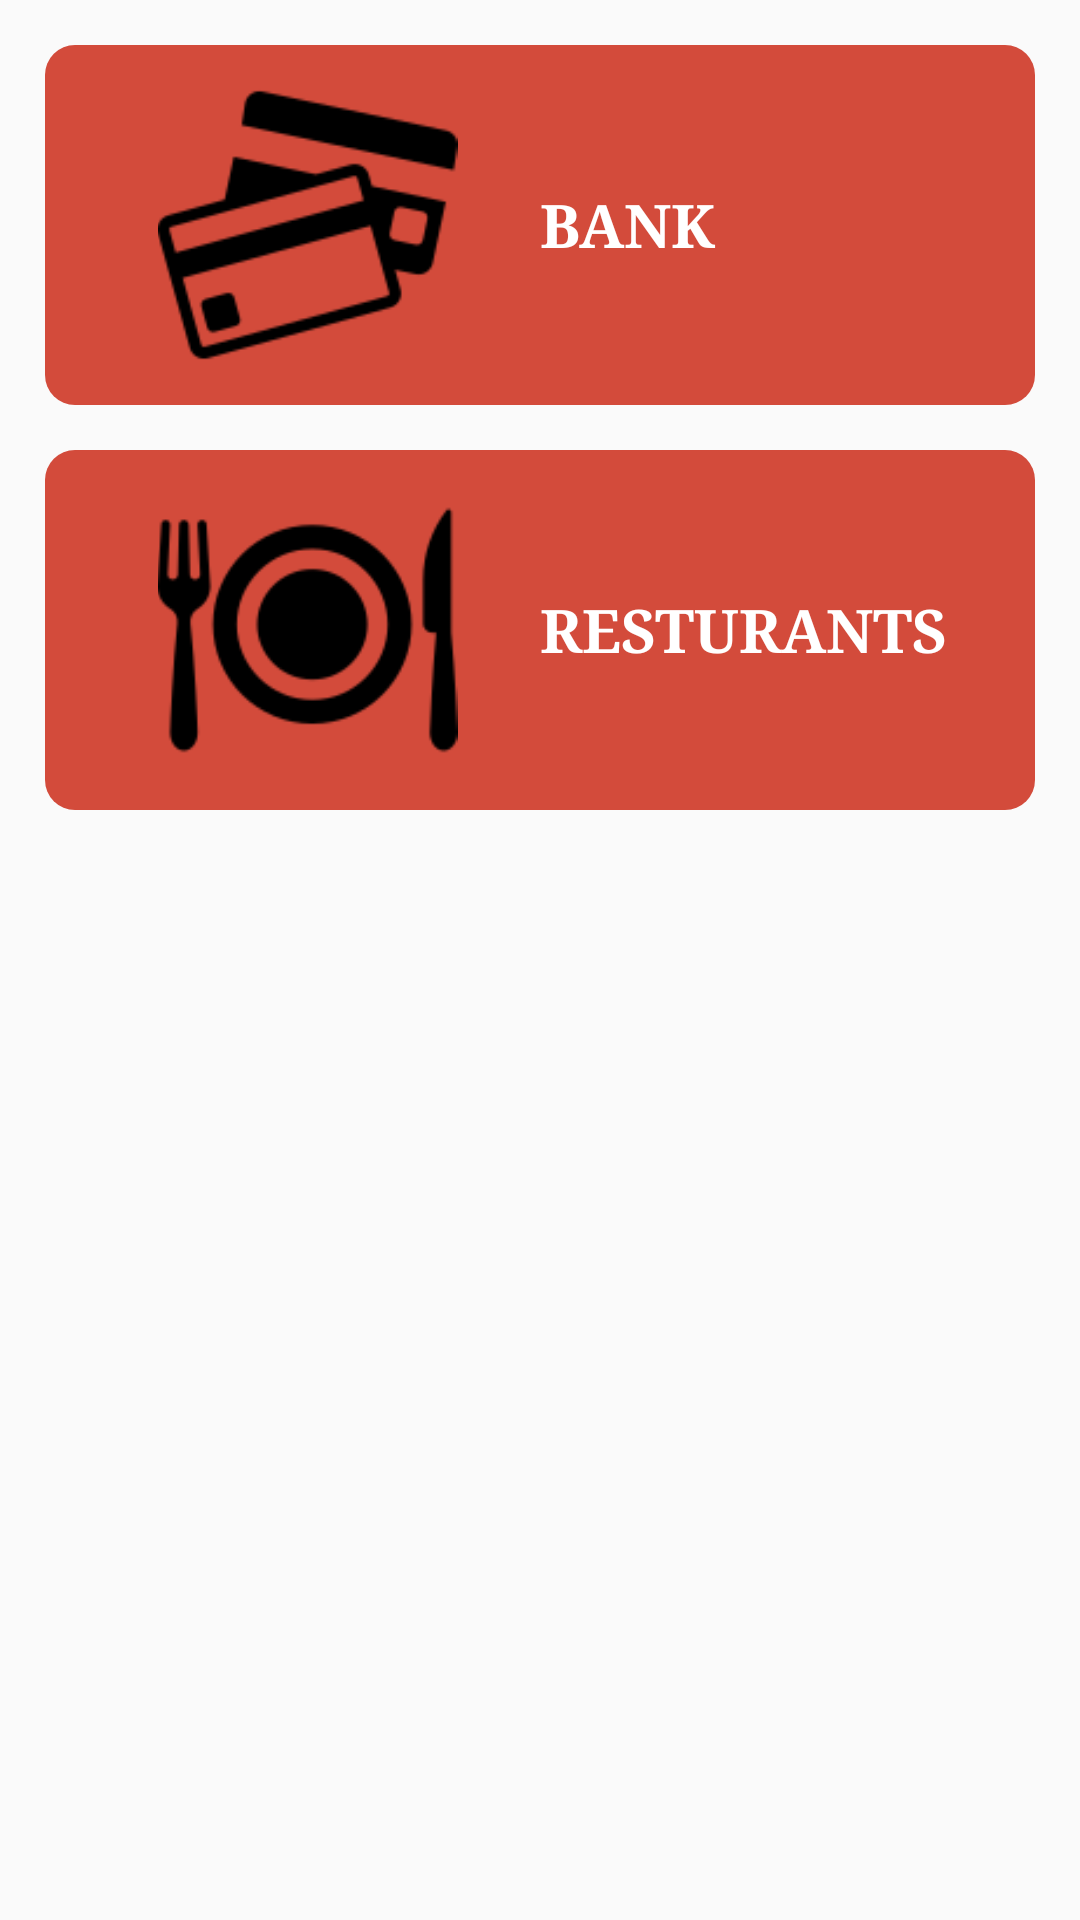

Icons on this 1080px x 1920px Android screen, each with its box as {"x1": x1, "y1": y1, "x2": x2, "y2": y2}:
card: {"x1": 158, "y1": 90, "x2": 458, "y2": 359}
dinner: {"x1": 158, "y1": 508, "x2": 458, "y2": 752}
